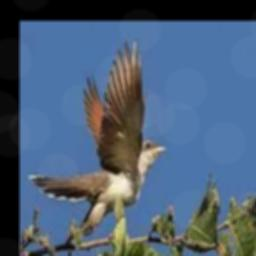Cuckoo: (28, 35, 167, 231)
